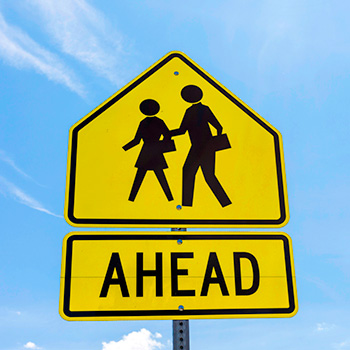slow: (63, 49, 291, 229)
